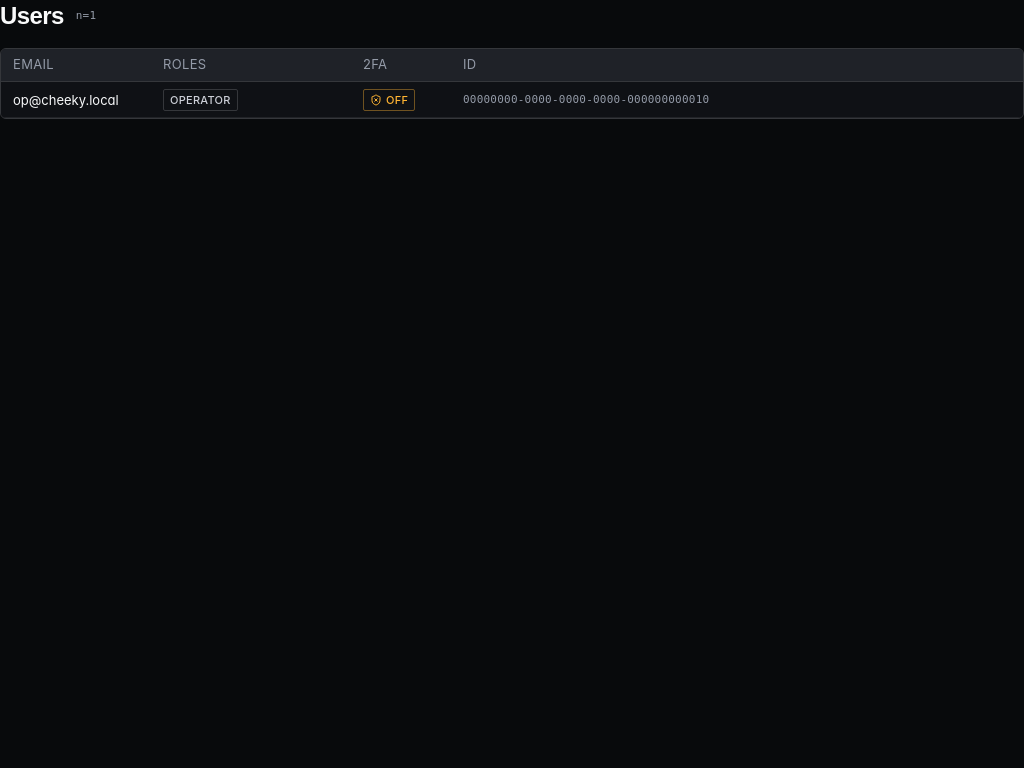
Test: UsersView › keeps Save disabled until something actually changes
What coordinates should you click on to do the following:
click the text "op@cheeky.local"
I would click on:
 (66, 100)
Its box is [13,90,119,110].
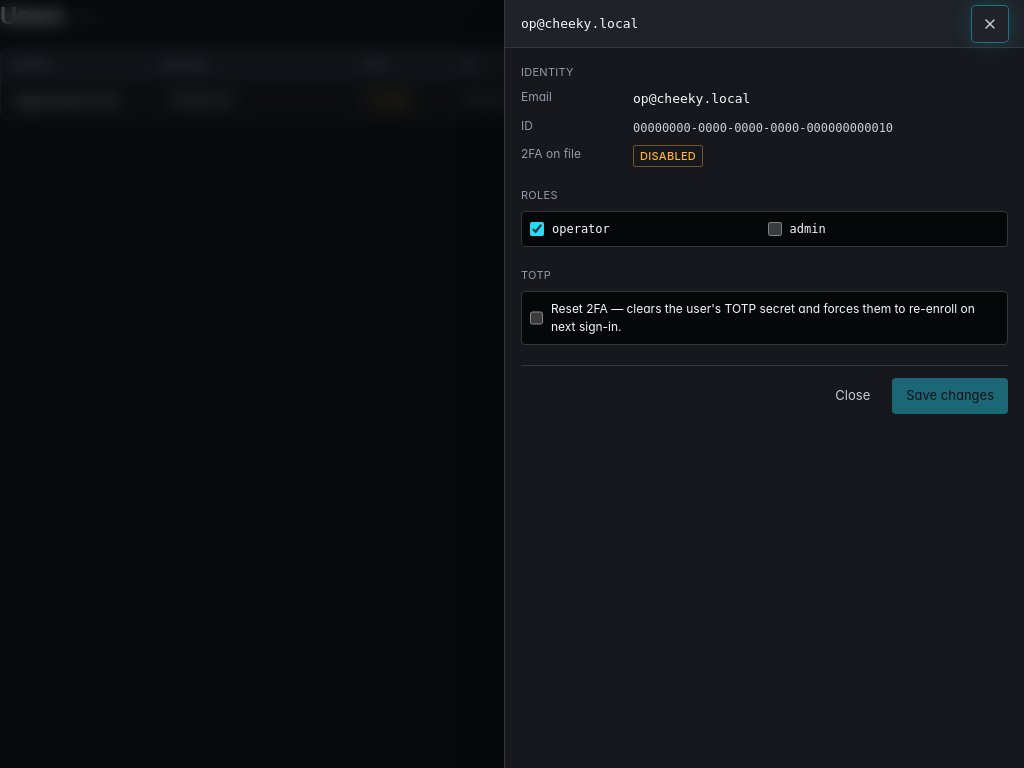
Expected: the button "Save changes" is disabled, [892,378,1008,414]
What coordinates should you click on to do the following:
click the checkbox labelled "admin"
I would click on:
 (774, 229)
Its box is [768,222,782,236].
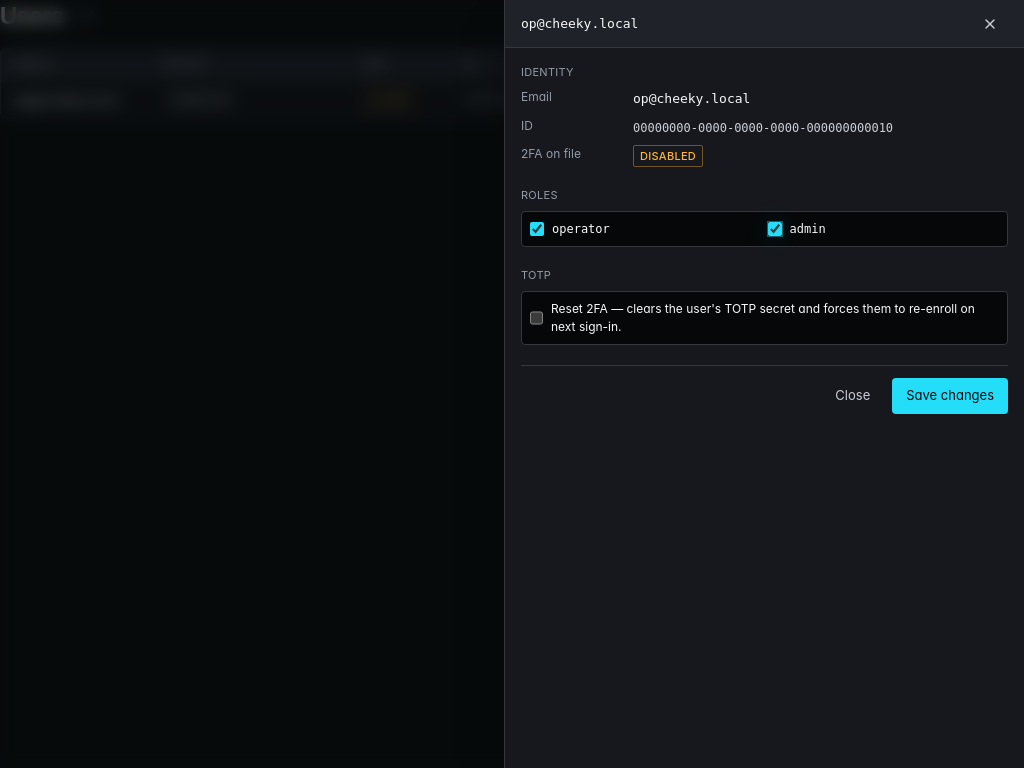
Expected: the button "Save changes" is enabled, [892,378,1008,414]
